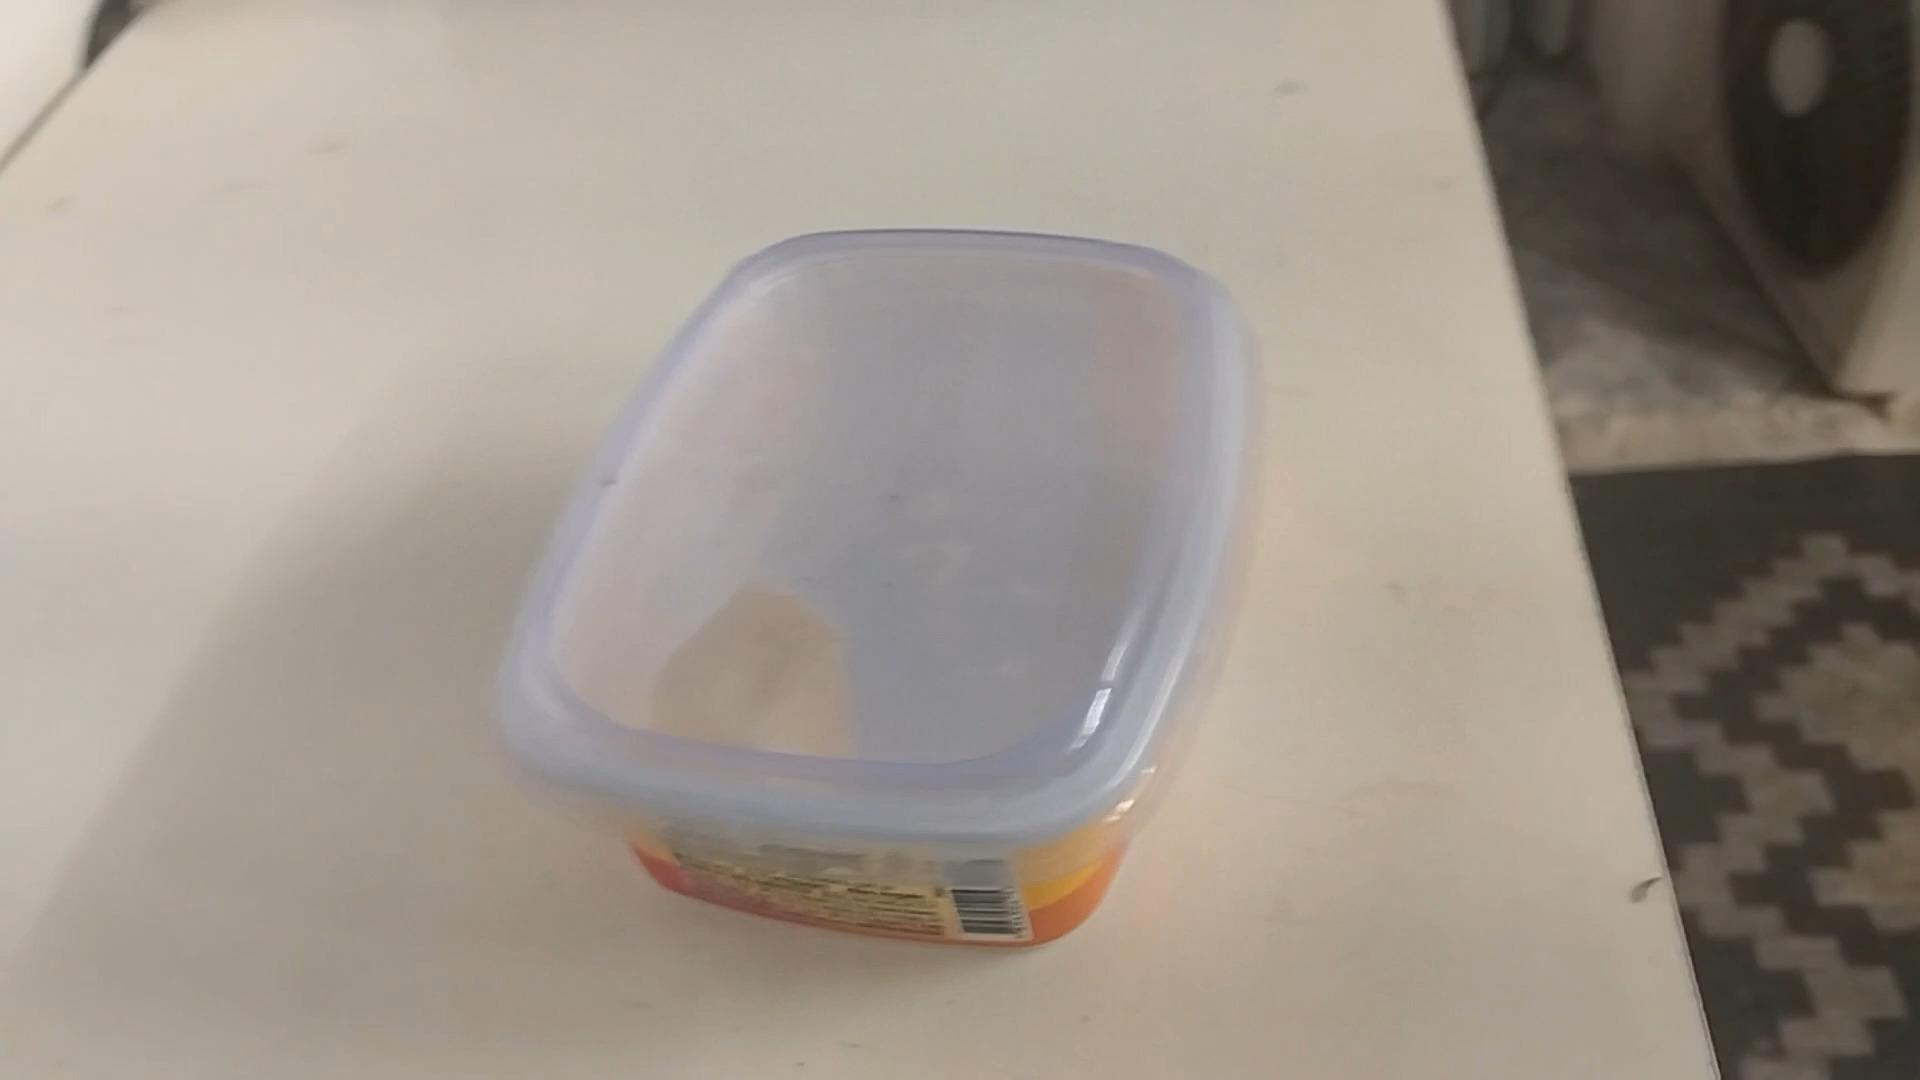butter: (492, 239, 1250, 955)
